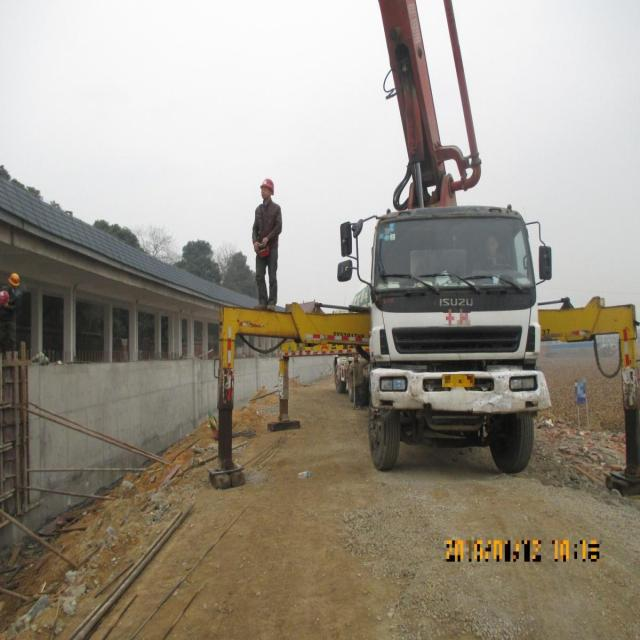crane: (198, 0, 640, 508)
